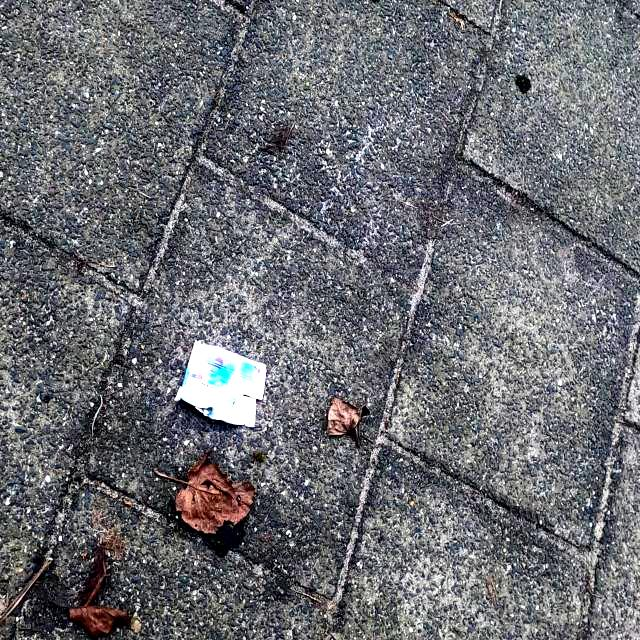Plastic: (173, 337, 267, 429)
